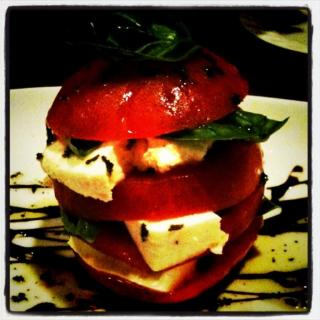Hamburger: (36, 10, 288, 304)
Tomato: (42, 43, 253, 142)
